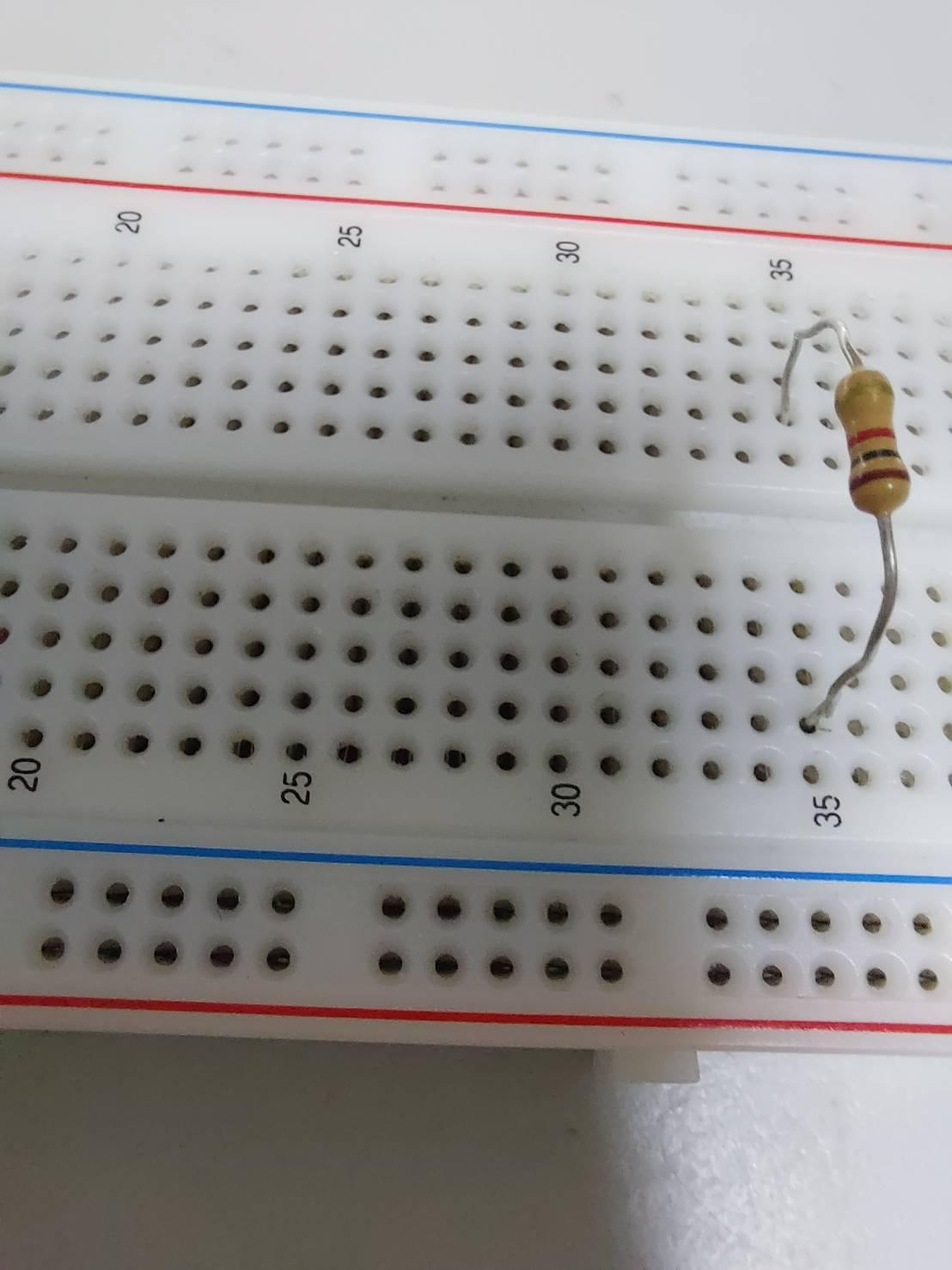resistor: (827, 366, 923, 515)
